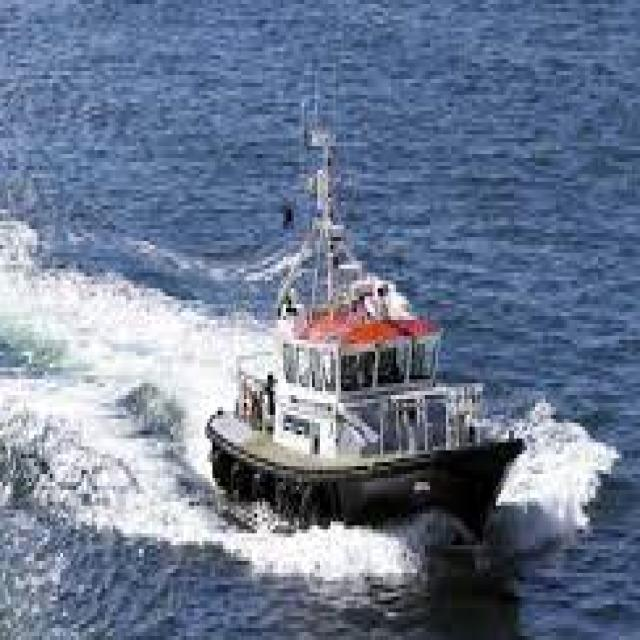houseboat: (206, 76, 528, 574)
